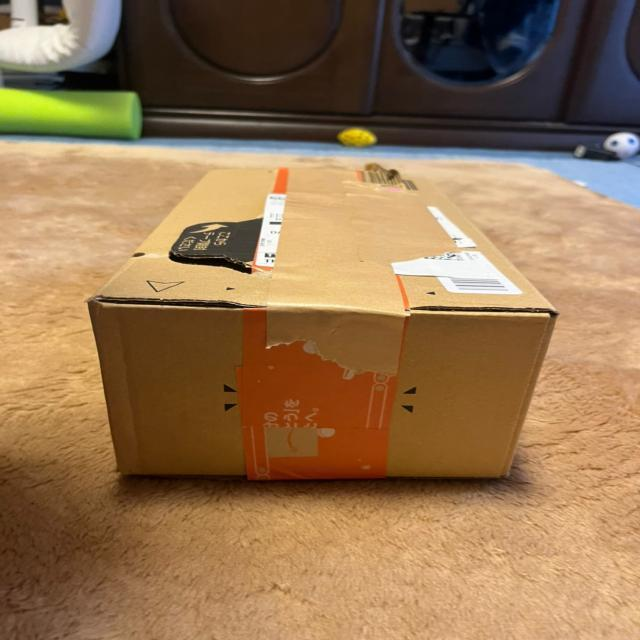box: (80, 159, 569, 493)
